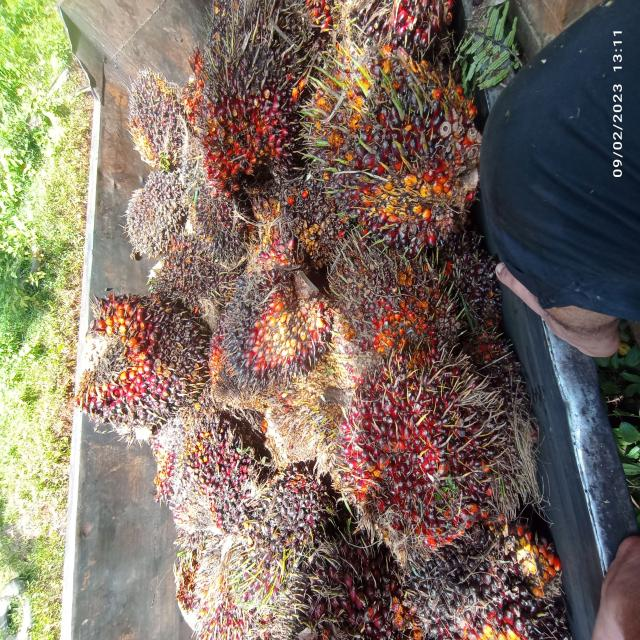fraksi 00: (220, 446, 334, 631), (214, 257, 336, 399), (138, 226, 226, 329), (270, 163, 346, 270), (120, 62, 190, 174), (112, 172, 186, 260), (188, 177, 250, 270)
fraksi 1: (293, 11, 498, 278), (333, 349, 514, 571), (186, 13, 296, 210), (72, 286, 213, 438), (334, 242, 464, 384), (140, 409, 247, 515)
